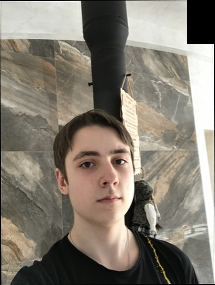without_mask: (65, 148, 135, 226)
